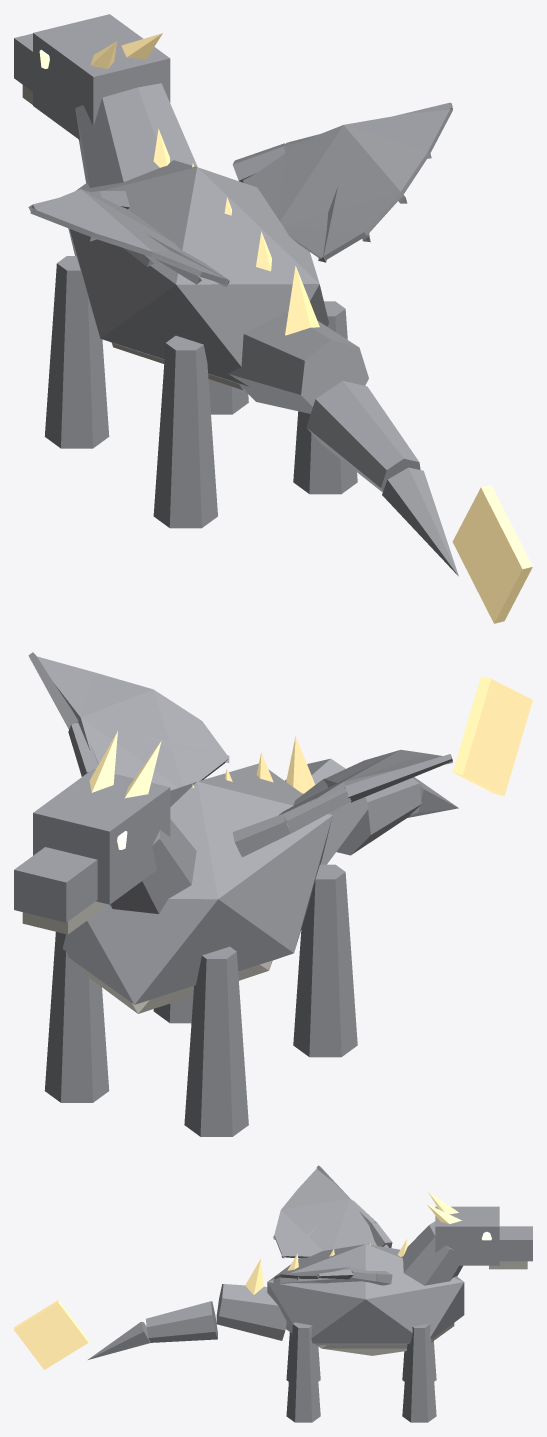
The model's file is dragon_stone.glb.
The picture shows the model from 3 angles, top to bottom: view 1: azimuth 30°, elevation 25°; view 2: azimuth 150°, elevation 25°; view 3: azimuth 270°, elevation 25°; orthographic projection. The views are drawn at different scales.
Parts seen in each view (by area): view 1: DragonBody; view 2: DragonBody; view 3: DragonBody.
Part boxes in pixels (left/top/right/bottom): DragonBody: left=14, top=14, right=532, bottom=623; DragonBody: left=14, top=652, right=532, bottom=1136; DragonBody: left=14, top=1165, right=532, bottom=1422.
Size of the model in its own units: 2.43 by 2.07 by 4.84.
